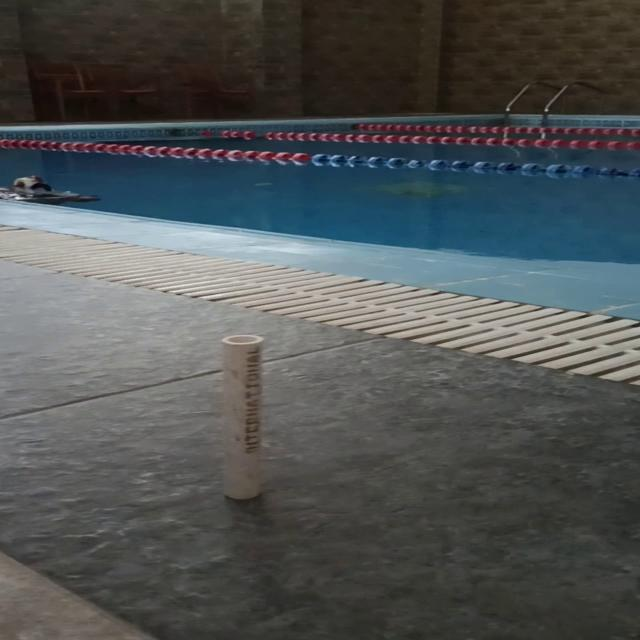Cube: (218, 333, 265, 500)
